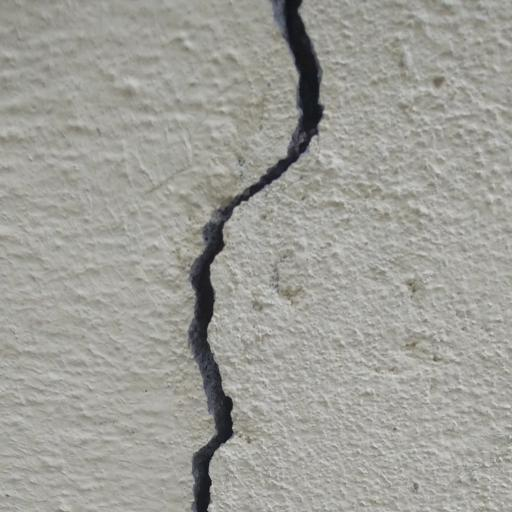major_crack: (179, 0, 331, 512)
